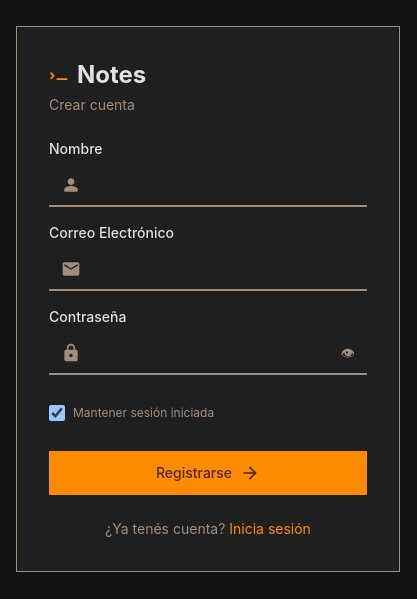
RegisterPage › shows validation error when password has no number
The image size is (417, 599).
Step 1. Type "User" into the field labelled "Nombre" → (208, 185), box [49,163,367,207]
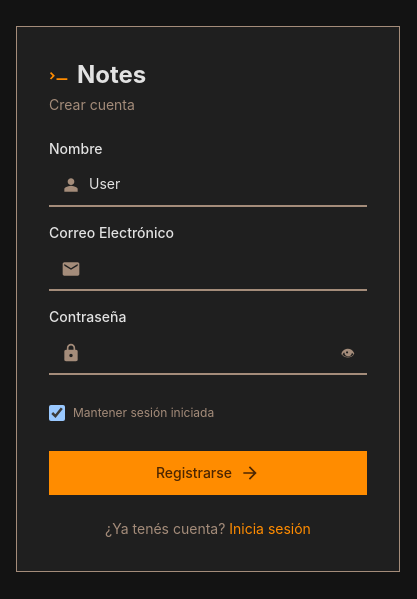
Step 2. Type "u@t.com" into the field labelled "Correo Electrónico" → (208, 269), box [49,247,367,291]
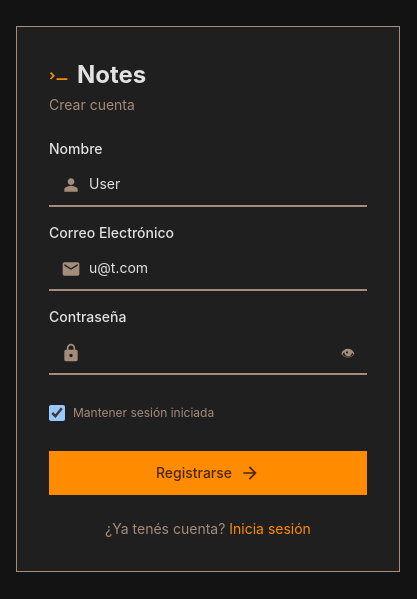
Step 3. Type "NoNumbers!" into the password field labelled "Contraseña" → (208, 353), box [49,331,367,375]
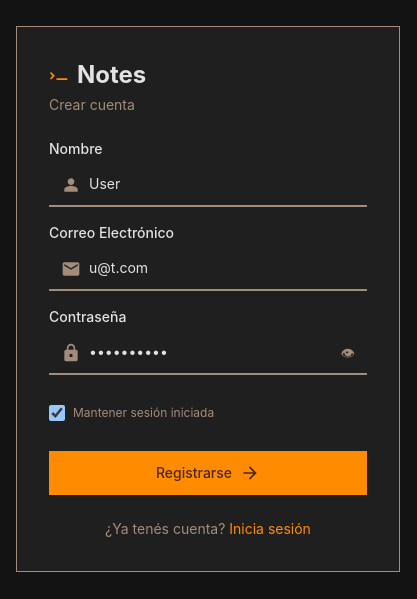
Step 4. Click the button "Registrarse" → (208, 473), box [49,451,367,495]
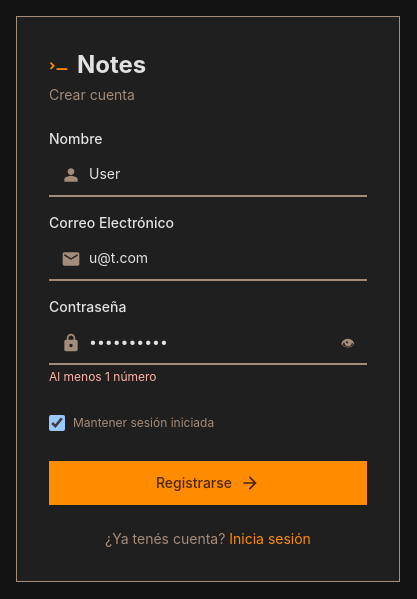
Now the text "Al menos 1 número" is shown, box [49,369,156,384]
